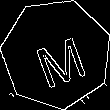M_N: (26, 22, 87, 85)
